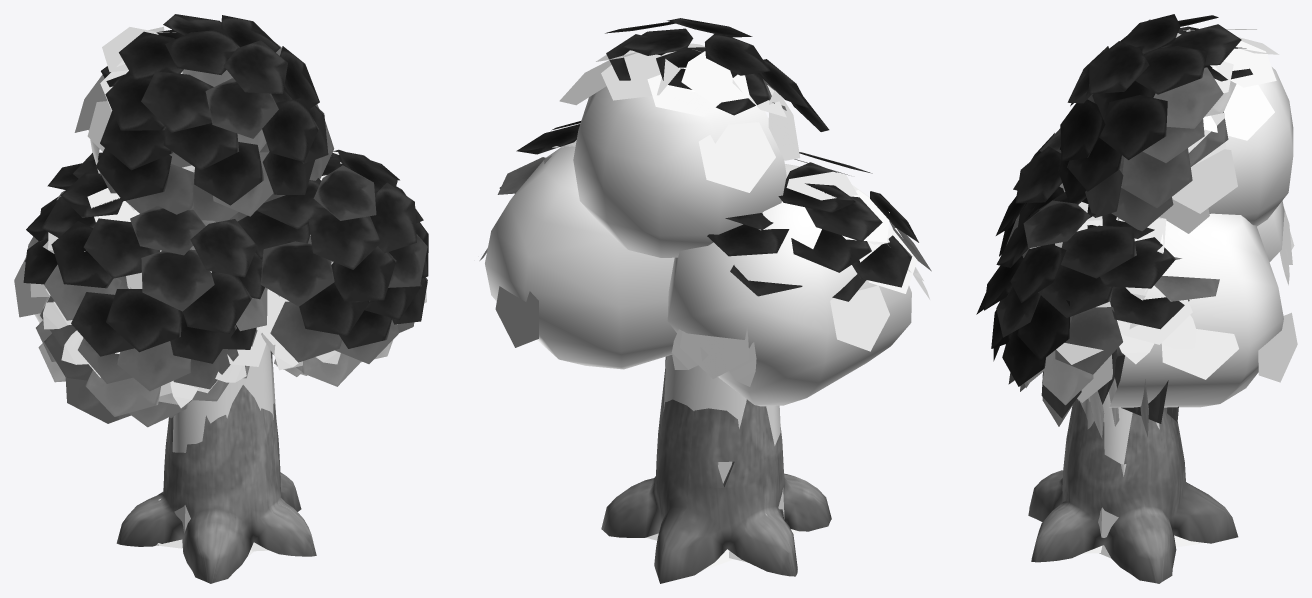
Rendered from tree-hardwood-a.glb.
3 views of the same model, side by side, from view 1: azimuth 30°, elevation 25°; view 2: azimuth 150°, elevation 25°; view 3: azimuth 270°, elevation 25° (orthographic). The views are drawn at different scales.
Visible parts, largest first — view 1: L01_010__mTreeOakLeaf, TrunkBottom__mPltTreeOakTrunk, L01_017__mShadowShake, LB030__mShadow, ShLeaf_010__mShadowShake, LB014__mTreeOakLeafBack; view 2: LB030__mShadow, TrunkBottom__mPltTreeOakTrunk, L01_017__mShadowShake, L01_010__mTreeOakLeaf, ShLeaf_010__mShadowShake; view 3: L01_010__mTreeOakLeaf, LB030__mShadow, TrunkBottom__mPltTreeOakTrunk, L01_017__mShadowShake, LB014__mTreeOakLeafBack, ShLeaf_010__mShadowShake.
Boxes of the visible parts, x1,y1,x2,y2 form: L01_010__mTreeOakLeaf: (23, 14, 428, 427); TrunkBottom__mPltTreeOakTrunk: (116, 351, 316, 583); L01_017__mShadowShake: (14, 26, 397, 396); LB030__mShadow: (27, 71, 341, 556); ShLeaf_010__mShadowShake: (43, 297, 340, 408); LB014__mTreeOakLeafBack: (65, 172, 273, 423); LB030__mShadow: (485, 43, 911, 570); TrunkBottom__mPltTreeOakTrunk: (601, 357, 831, 583); L01_017__mShadowShake: (479, 50, 923, 378); L01_010__mTreeOakLeaf: (497, 18, 931, 301); ShLeaf_010__mShadowShake: (485, 251, 929, 386); L01_010__mTreeOakLeaf: (976, 14, 1252, 438); LB030__mShadow: (1029, 29, 1293, 558); TrunkBottom__mPltTreeOakTrunk: (1028, 347, 1238, 583); L01_017__mShadowShake: (1024, 29, 1297, 402); LB014__mTreeOakLeafBack: (1070, 112, 1228, 423); ShLeaf_010__mShadowShake: (1119, 231, 1294, 364).
Bounding box in the file's own units: 2.16 × 2.65 × 1.52.
5 materials, 3 textured.
